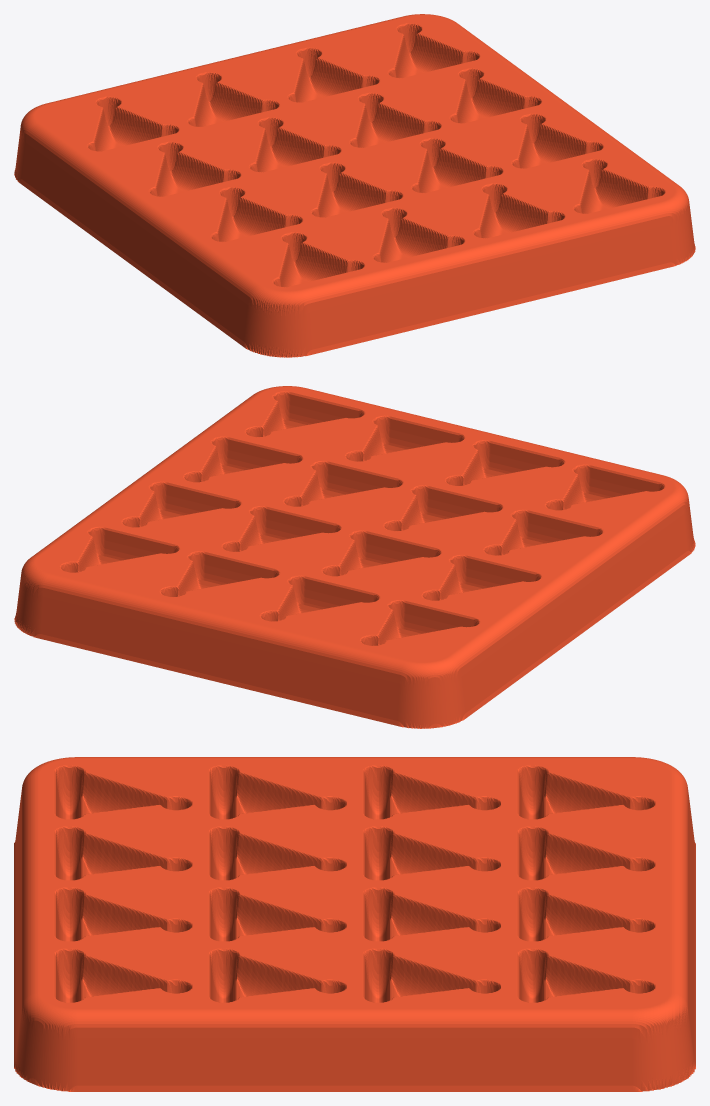
The model's file is mold.glb.
3 renders of one model, top to bottom at view 1: azimuth 30°, elevation 25°; view 2: azimuth 150°, elevation 25°; view 3: azimuth 270°, elevation 25°, orthographic. The views are drawn at different scales.
Visible parts, largest first — view 1: geometry_0; view 2: geometry_0; view 3: geometry_0.
Boxes of the visible parts, x1,y1,x2,y2 form: geometry_0: (14, 14, 695, 357); geometry_0: (14, 386, 695, 728); geometry_0: (14, 757, 695, 1091).
Size of the model in its own units: 0.0916 by 0.0114 by 0.0972.
